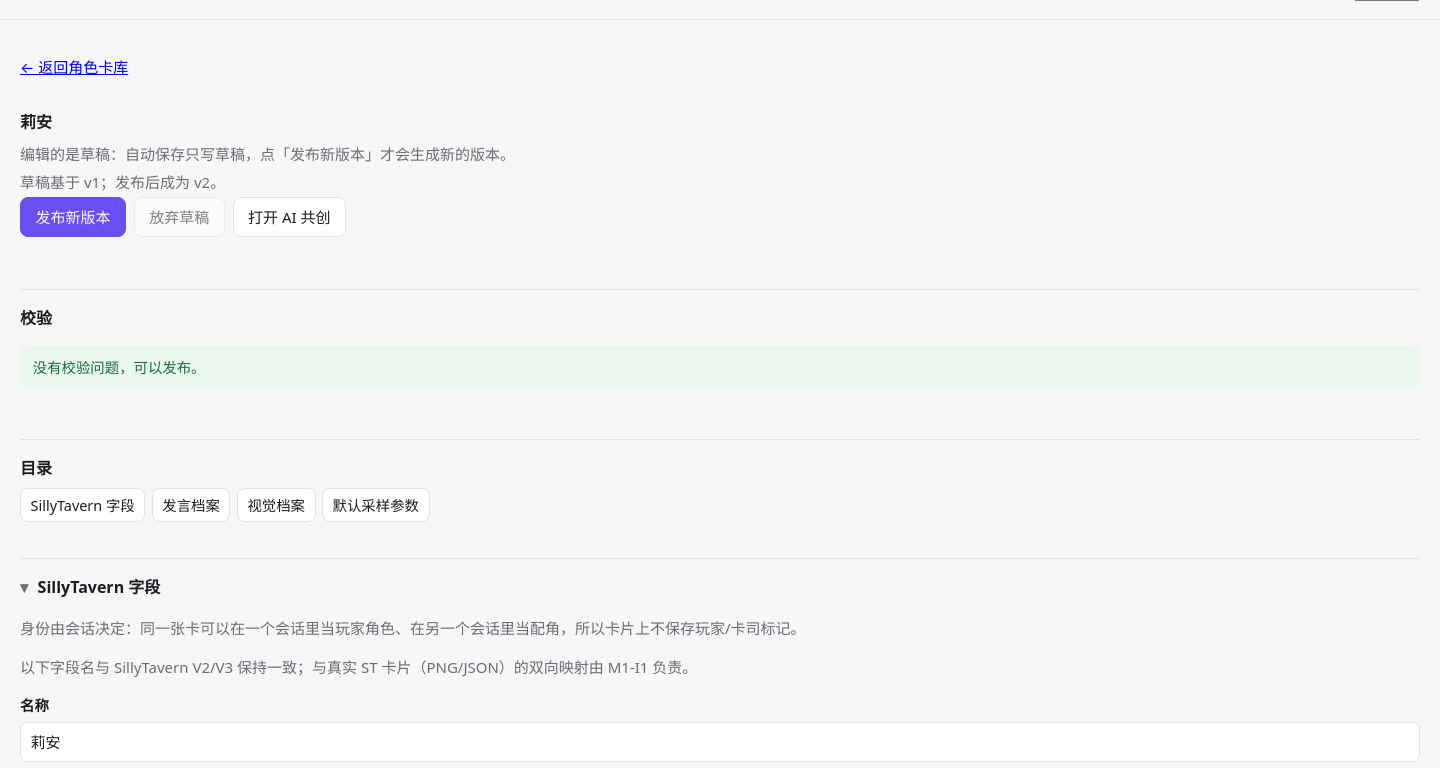
it: the character editor’s sections (fix B1) › opens the visual bible from its table-of-contents entry
The image size is (1440, 768).
What coordinates should you click on to do the following:
click the button "视觉档案"
I would click on:
 (276, 505)
Its box is [237,488,316,522].
(page scrolled)
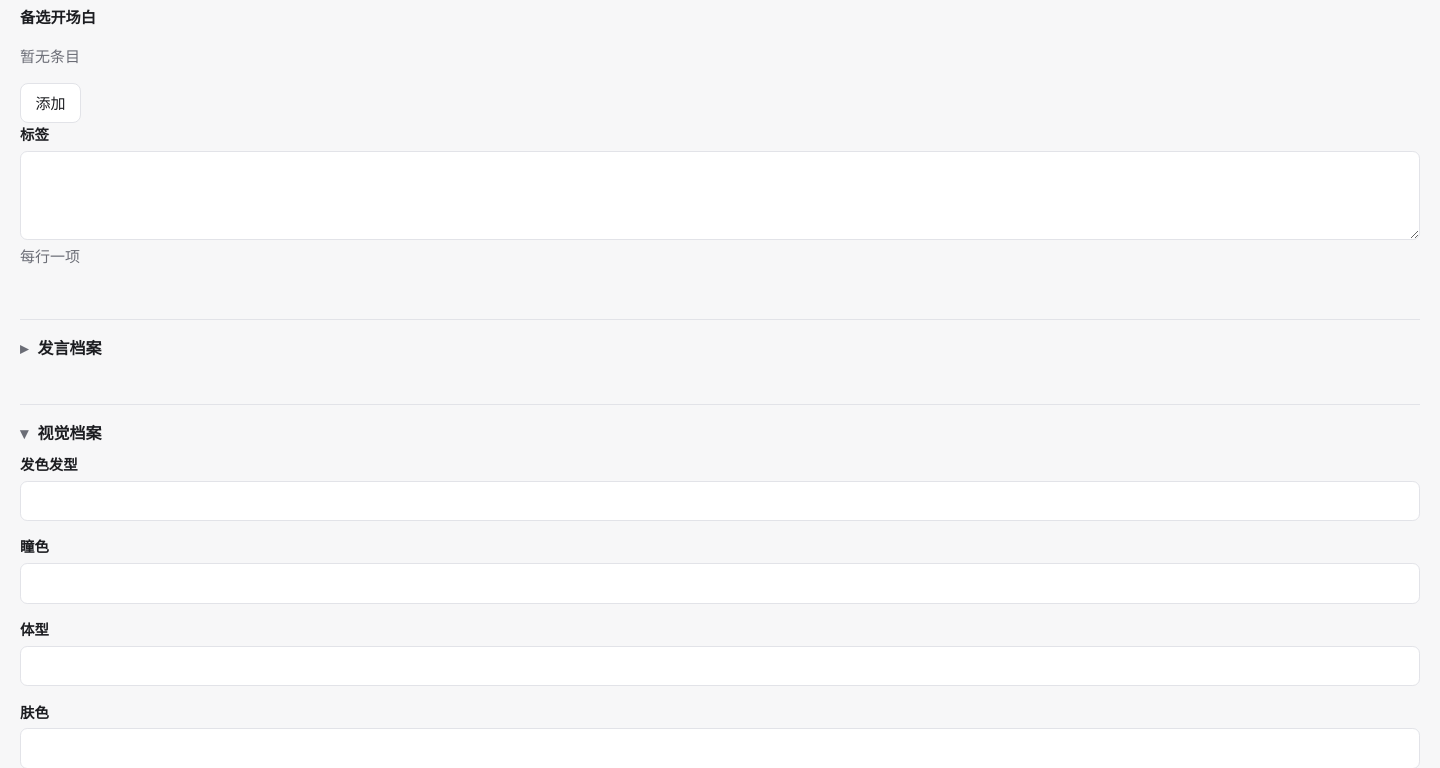
Now the field labelled "发色发型" is shown, box [20,481,1420,521]
